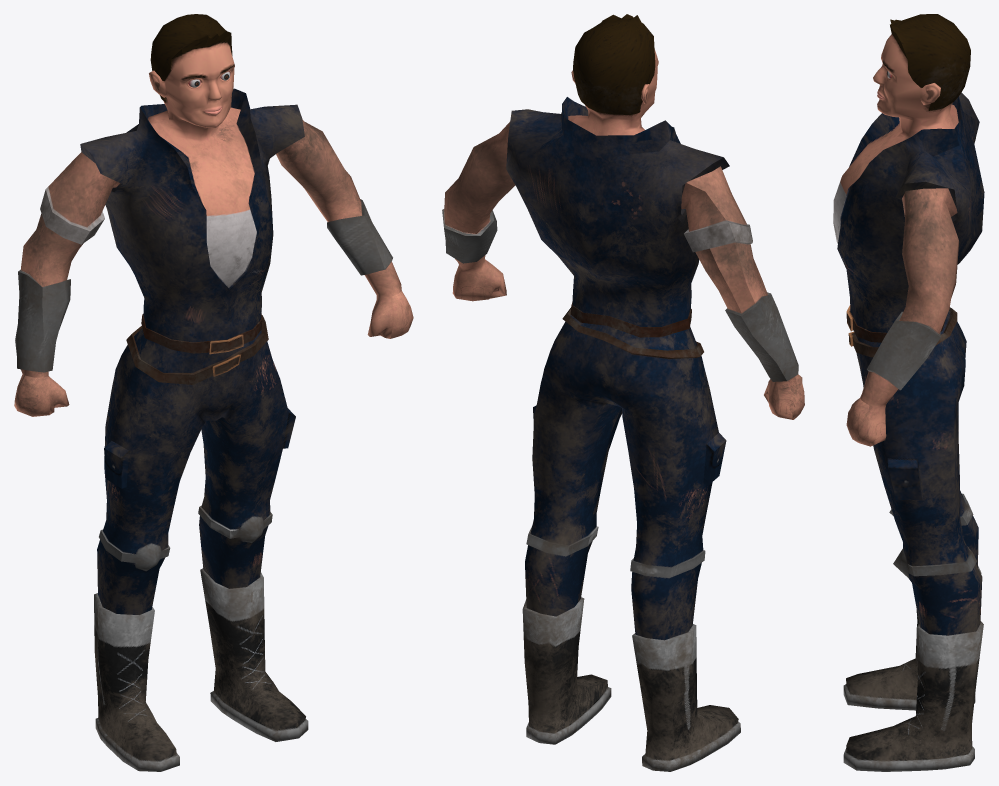
The model's file is Anim_idle_jugador.0021.obj.
3 views of the same model, side by side, from view 1: azimuth 30°, elevation 25°; view 2: azimuth 150°, elevation 25°; view 3: azimuth 270°, elevation 25° (orthographic).
Parts seen in each view (by area): view 1: polySurface1; view 2: polySurface1; view 3: polySurface1.
Part boxes in pixels (left/top/right/bottom): polySurface1: left=14, top=14, right=413, bottom=771; polySurface1: left=442, top=14, right=804, bottom=771; polySurface1: left=833, top=14, right=984, bottom=771.
Bounding box in the file's own units: 5.26 × 9.66 × 1.85.
